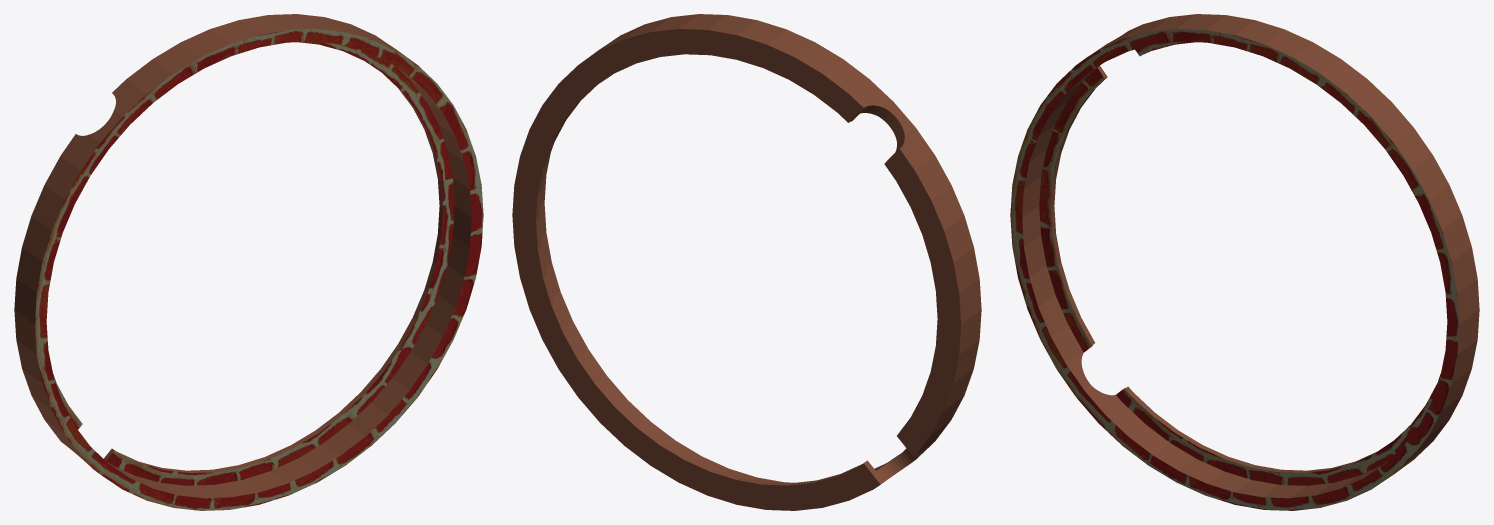
Rendered from pool_034.obj.
3 renders of one model, left to right at view 1: azimuth 30°, elevation 25°; view 2: azimuth 150°, elevation 25°; view 3: azimuth 330°, elevation 25°, orthographic.
Size of the model in its own units: 38 by 38 by 3.
Materials: 1 (1 with a texture image).
